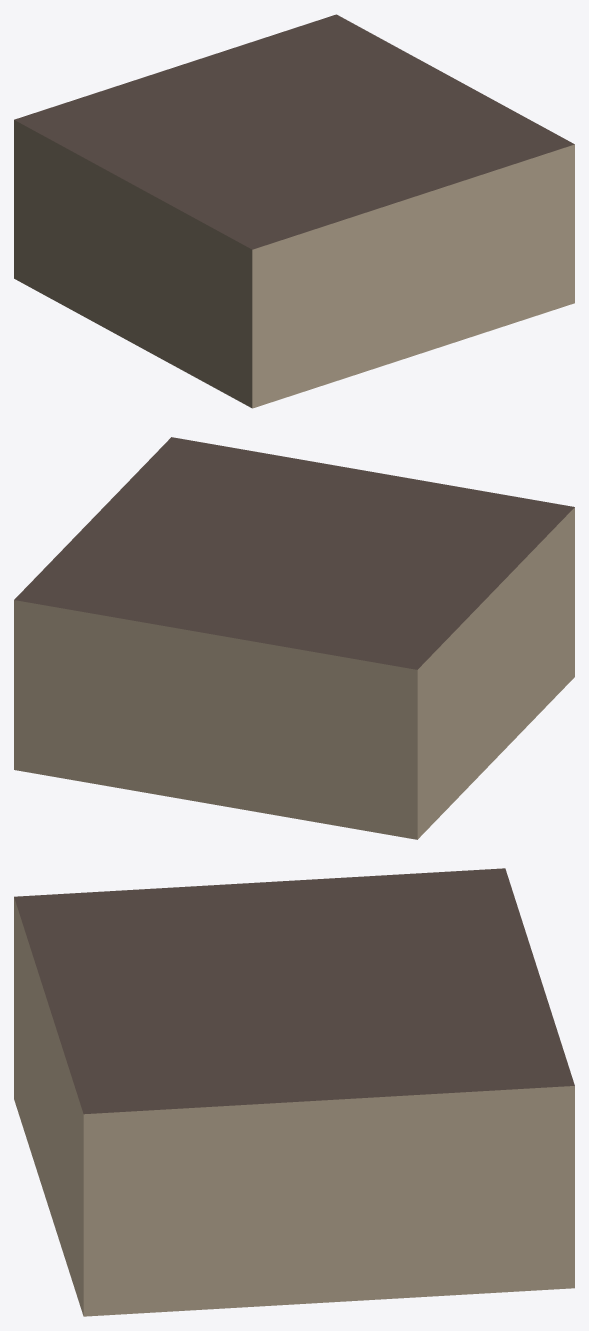
3 views of the same model, one above another, from view 1: azimuth 30°, elevation 25°; view 2: azimuth 150°, elevation 25°; view 3: azimuth 270°, elevation 25° (orthographic). The views are drawn at different scales.
Parts seen in each view (by area): view 1: HP-w1200832207; view 2: HP-w1200832207; view 3: HP-w1200832207.
Boxes of the visible parts, bbox=[...] form: HP-w1200832207: bbox=[14, 14, 574, 408]; HP-w1200832207: bbox=[14, 437, 574, 839]; HP-w1200832207: bbox=[14, 868, 574, 1316].
Bounding box in the file's own units: 23.45 × 9 × 22.61.
